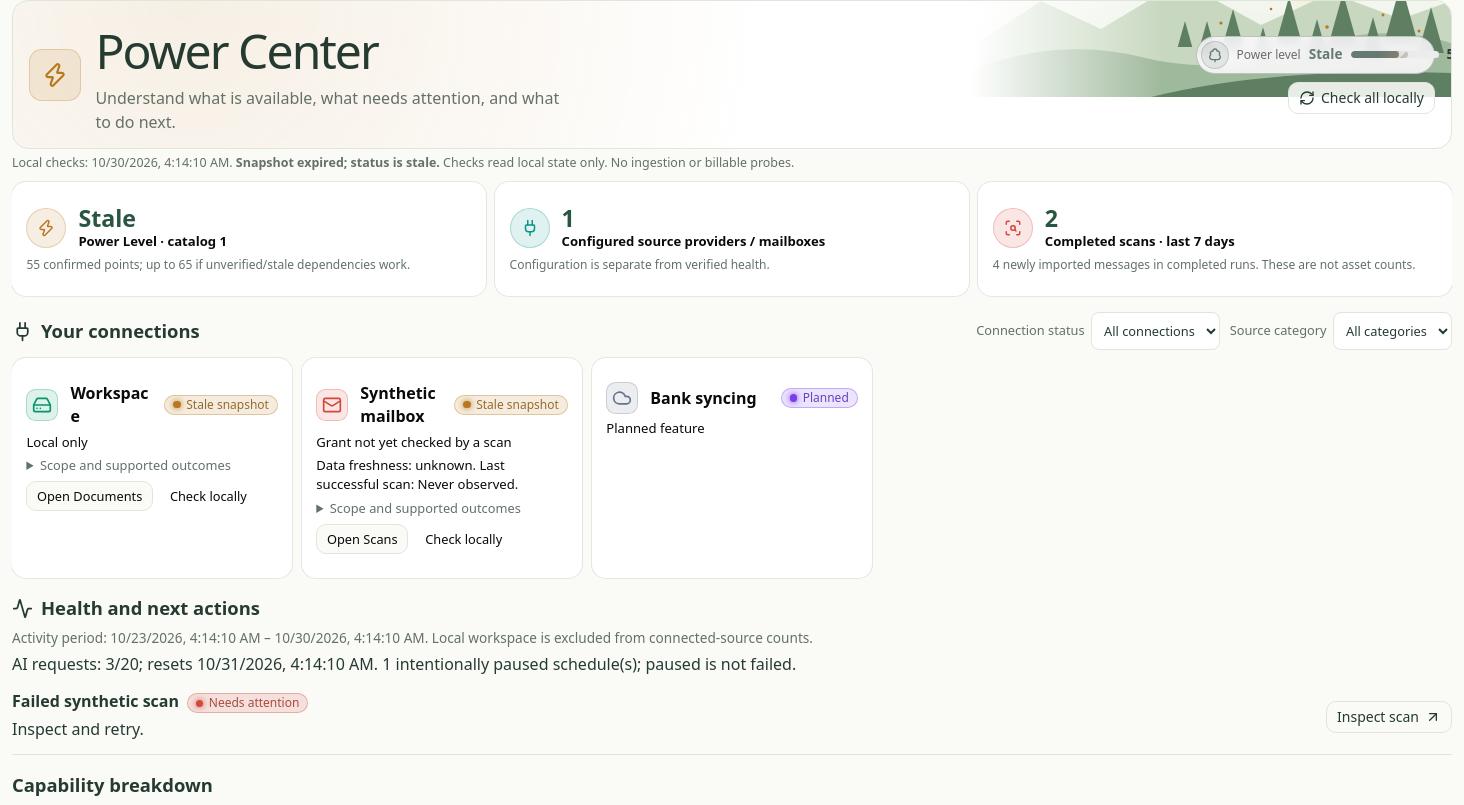
Test case: preserves prior status on refresh failure, labels stale snapshots and supports retry
This screenshot has width=1464, height=805.
Expected: the text "Snapshot expired; status is stale." is shown, [236,154,440,171]
Click the button "Check all locally" at [1362, 98], box [1288,82,1435,114]
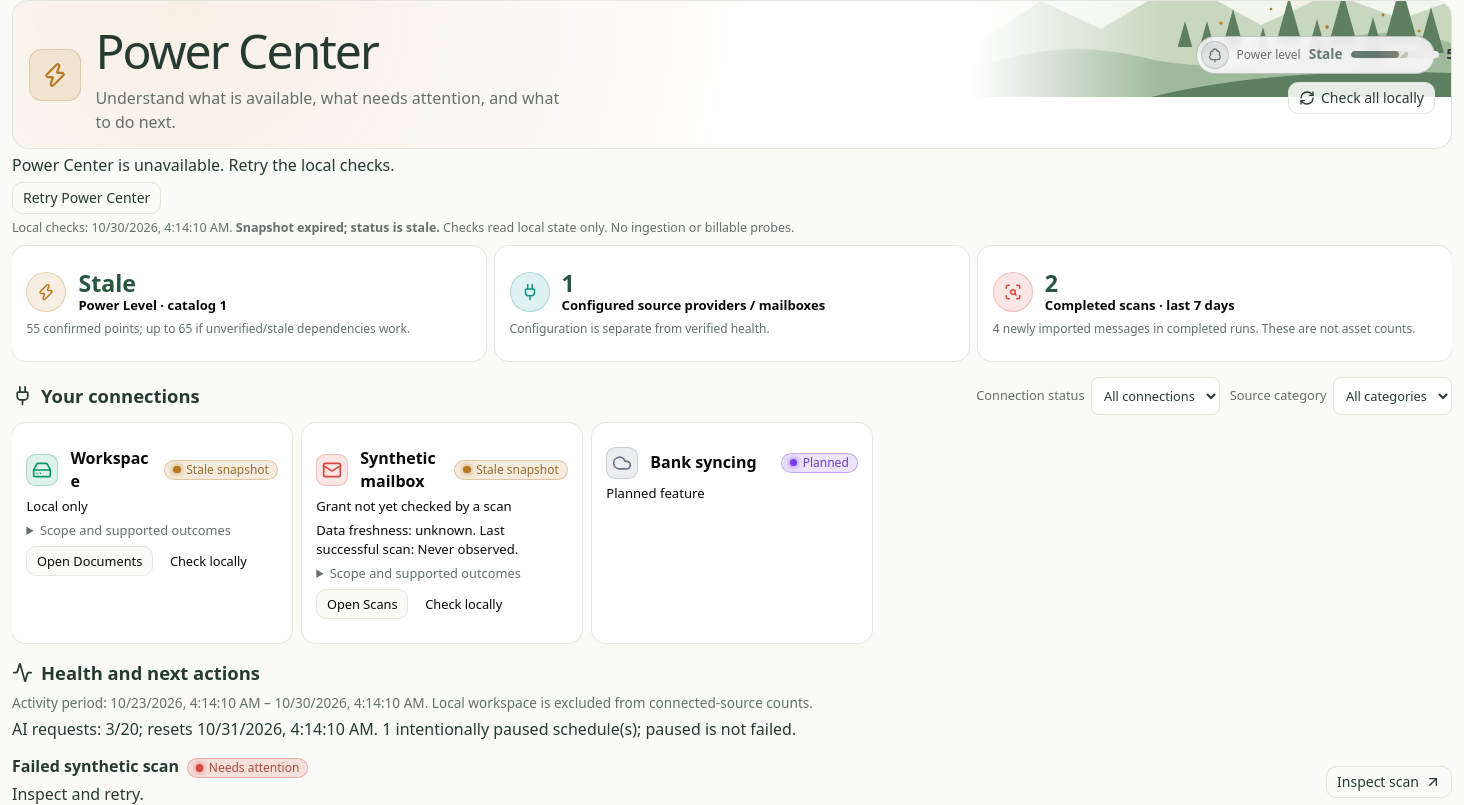
Expected: the text "4 newly imported messages" is shown, [993,321,1438,338]
Result: the message shows "Power Center is unavailable" at [12,154,394,176]
Click the button "Retry Power Center" at [87, 198], box [12,182,161,214]
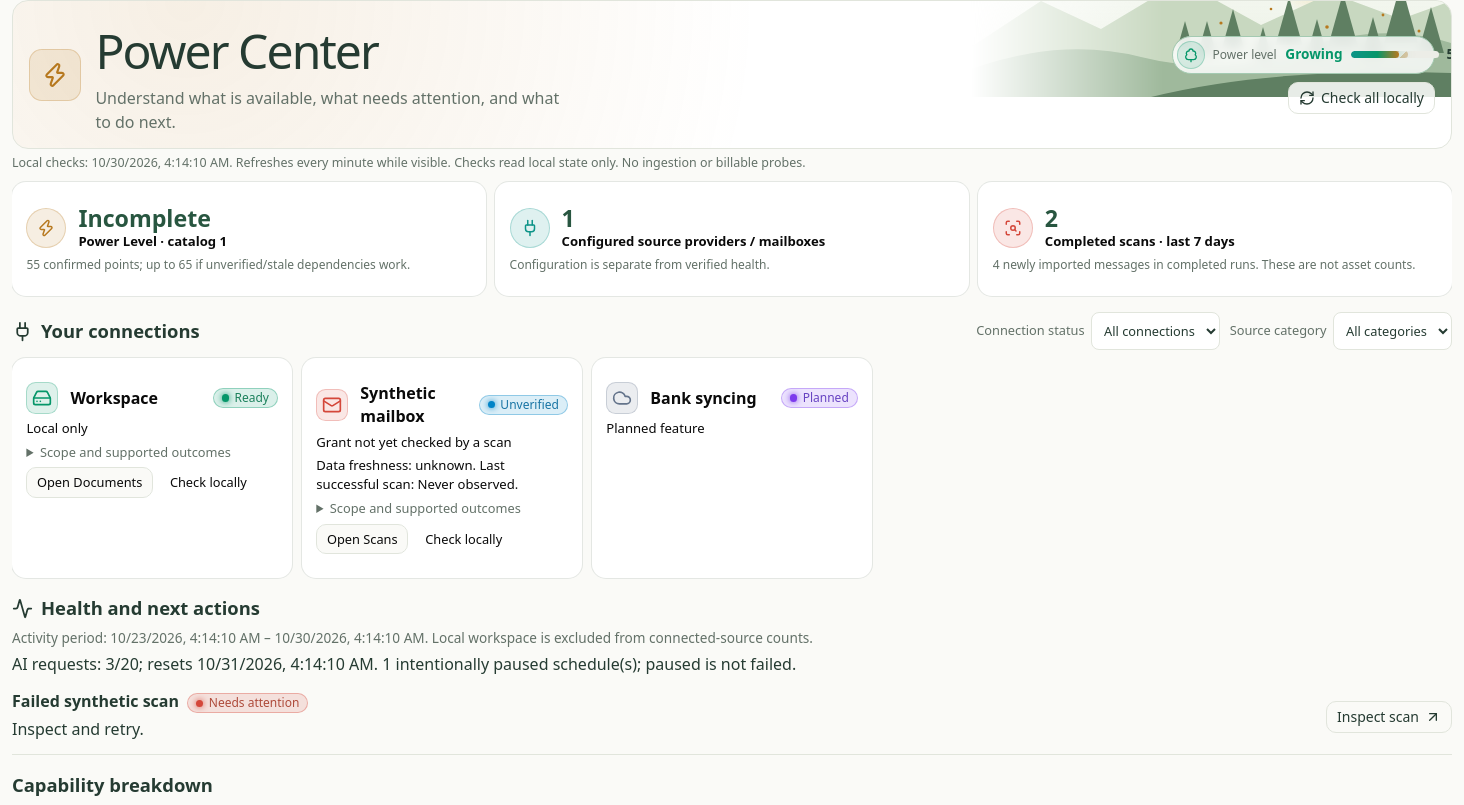
Result: the text "Incomplete" is shown at [78,202,211,234]
